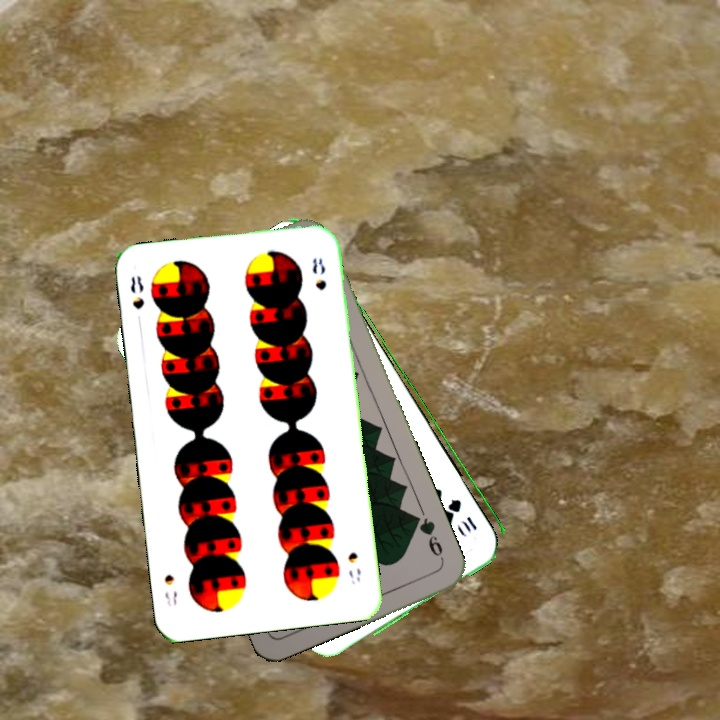G10: (446, 494, 480, 533)
G9: (410, 511, 447, 565)
S8: (126, 271, 147, 312), (344, 548, 364, 587)
